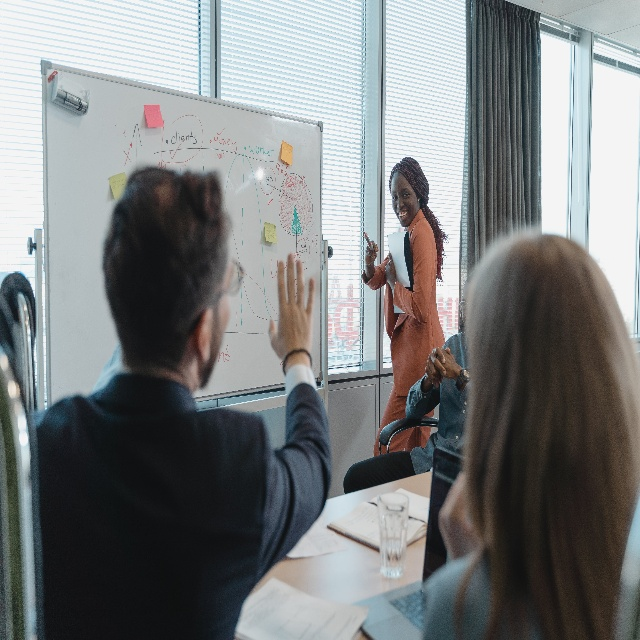Gafas: (458, 299, 468, 315)
Sin_guantes: (267, 253, 316, 361), (435, 347, 459, 391), (425, 346, 446, 388), (363, 240, 380, 265), (385, 253, 396, 287)
